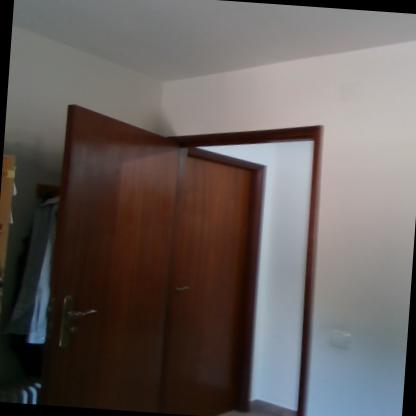open: (35, 91, 304, 415)
